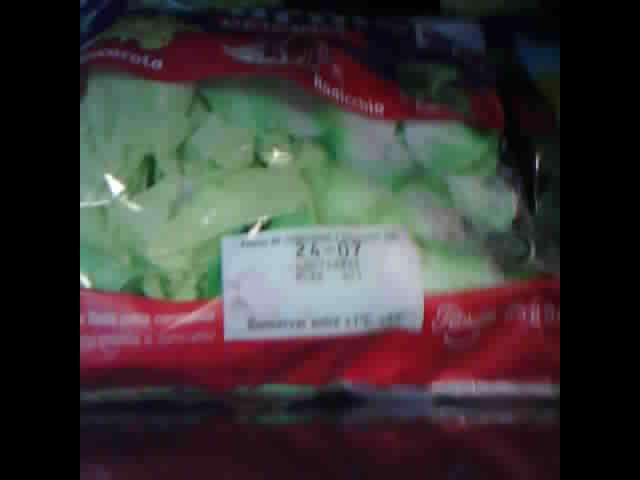florette: (82, 9, 559, 407)
